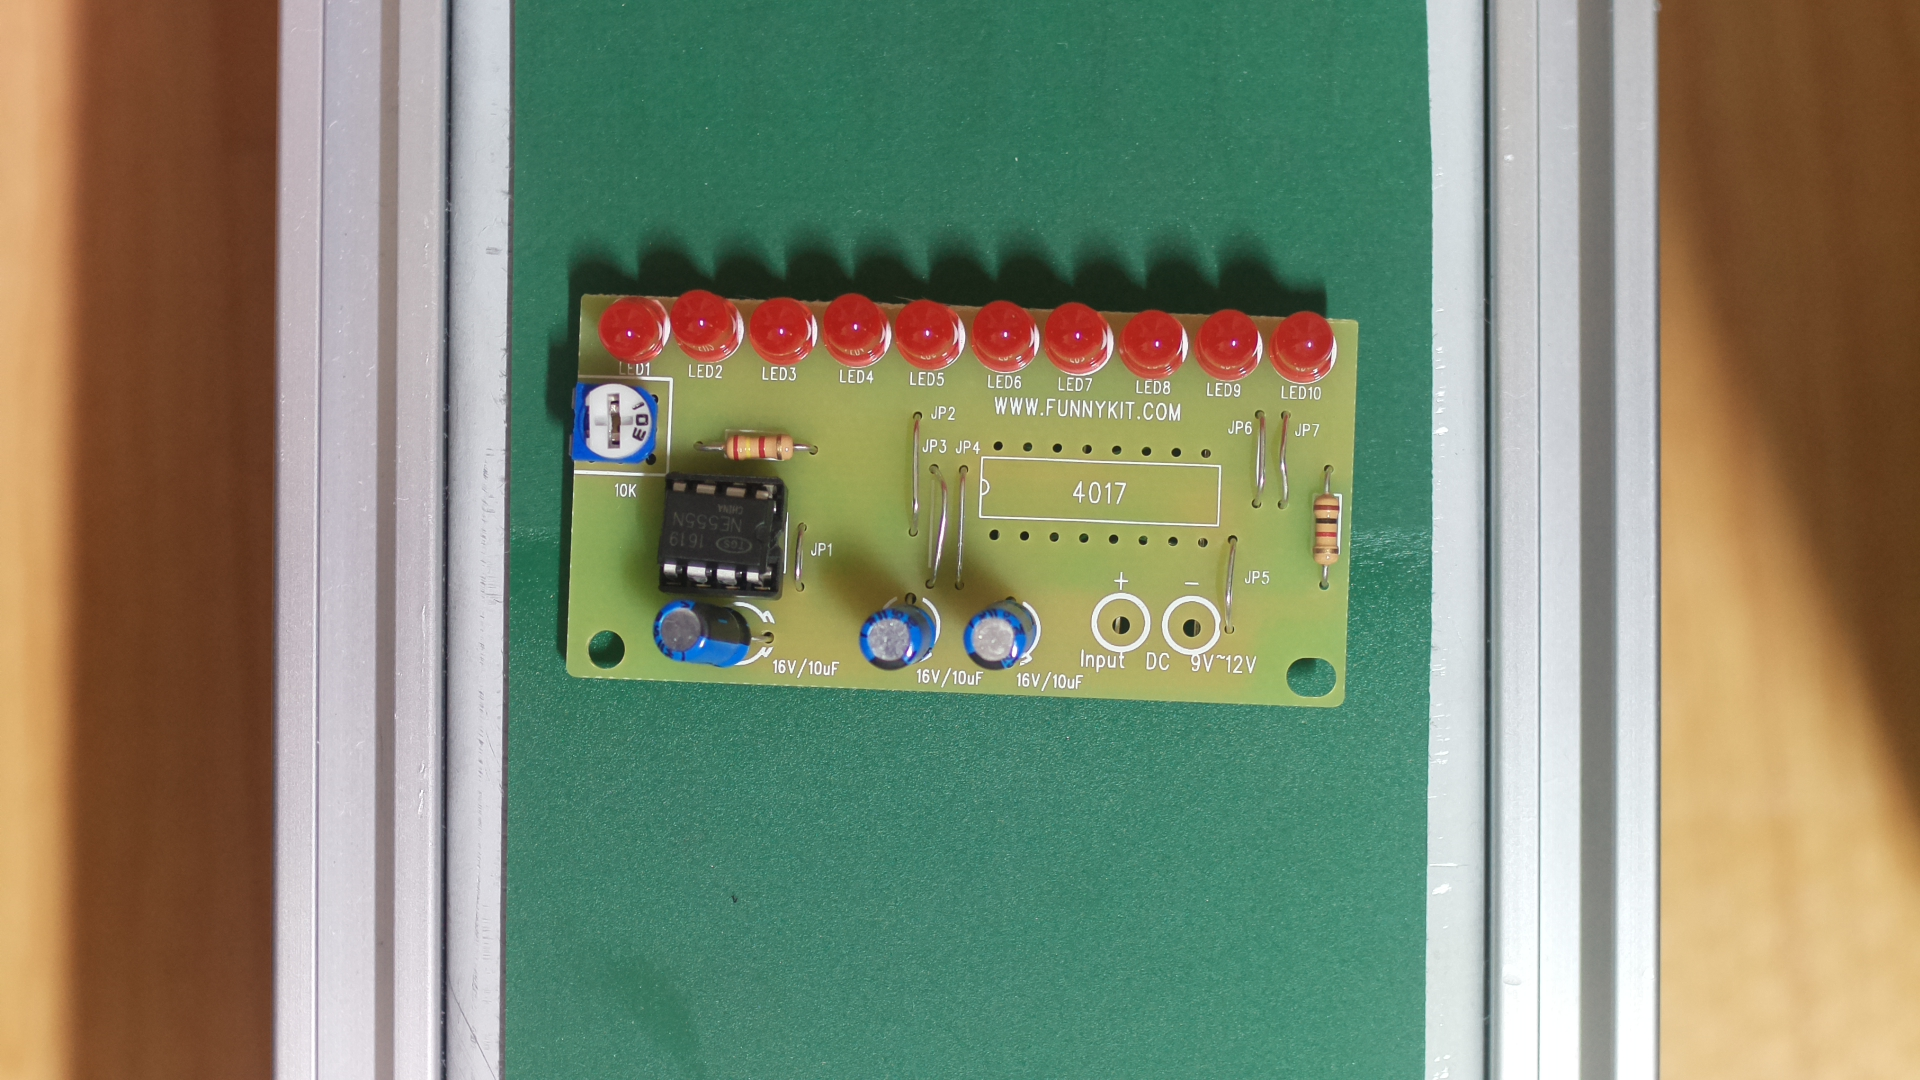B_Missing_part: (558, 260, 1371, 729)
